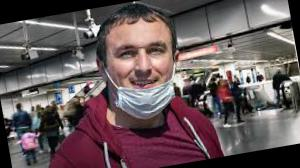mask_weared_incorrect: (107, 33, 180, 110)
